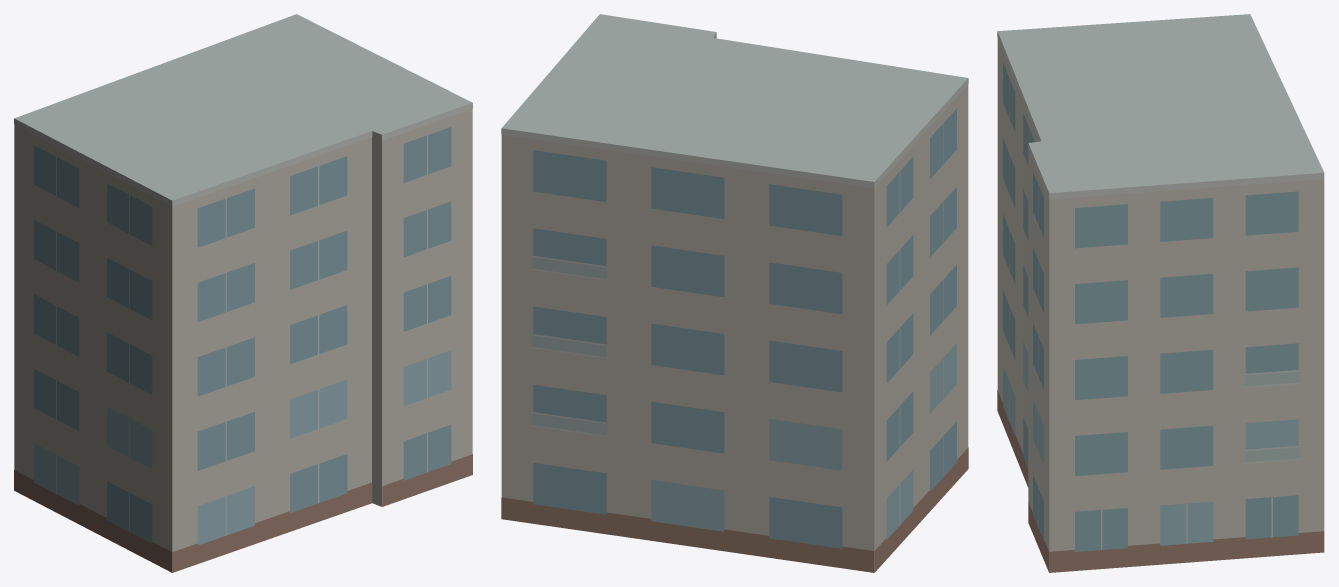
The model's file is survey-upis-32882727.glb.
3 views of the same model, side by side, from view 1: azimuth 30°, elevation 25°; view 2: azimuth 150°, elevation 25°; view 3: azimuth 270°, elevation 25° (orthographic). The views are drawn at different scales.
Parts seen in each view (by area): view 1: survey-upis-32882727.tmp; view 2: survey-upis-32882727.tmp; view 3: survey-upis-32882727.tmp.
Boxes of the visible parts, box(x1,y1,x2,y2) form: survey-upis-32882727.tmp: box(14, 14, 472, 572); survey-upis-32882727.tmp: box(501, 14, 968, 572); survey-upis-32882727.tmp: box(997, 14, 1324, 572).
Size of the model in its own units: 15.2 by 15 by 11.71.
